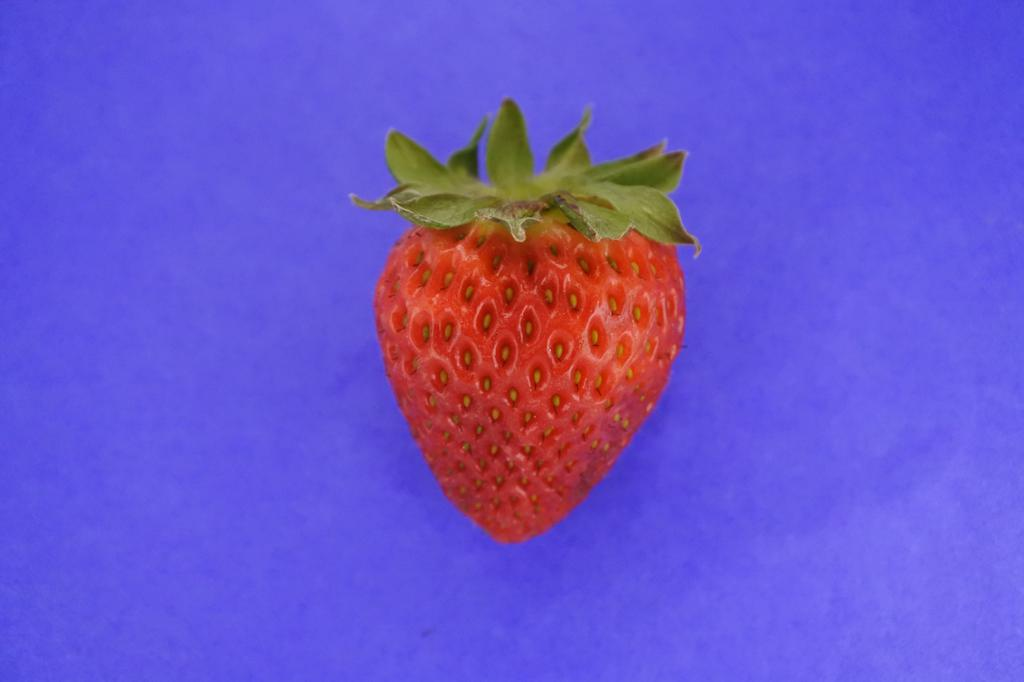red strawberry: (345, 100, 698, 545)
